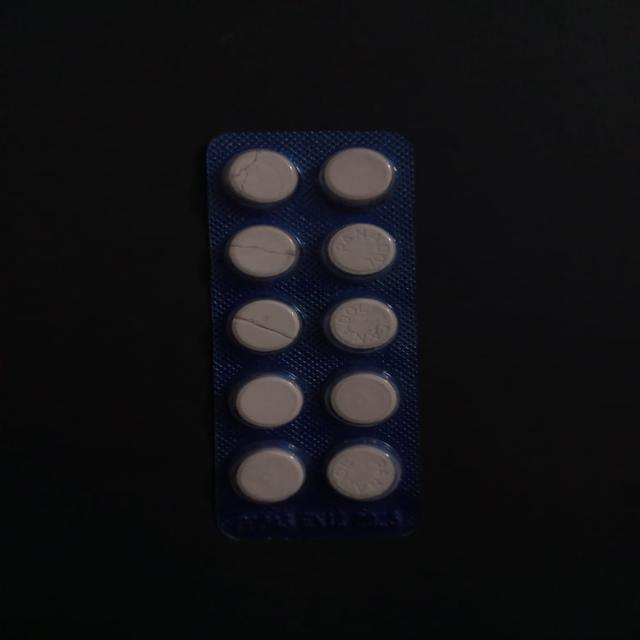defect: (221, 145, 304, 208), (222, 221, 306, 283), (225, 296, 310, 356)
